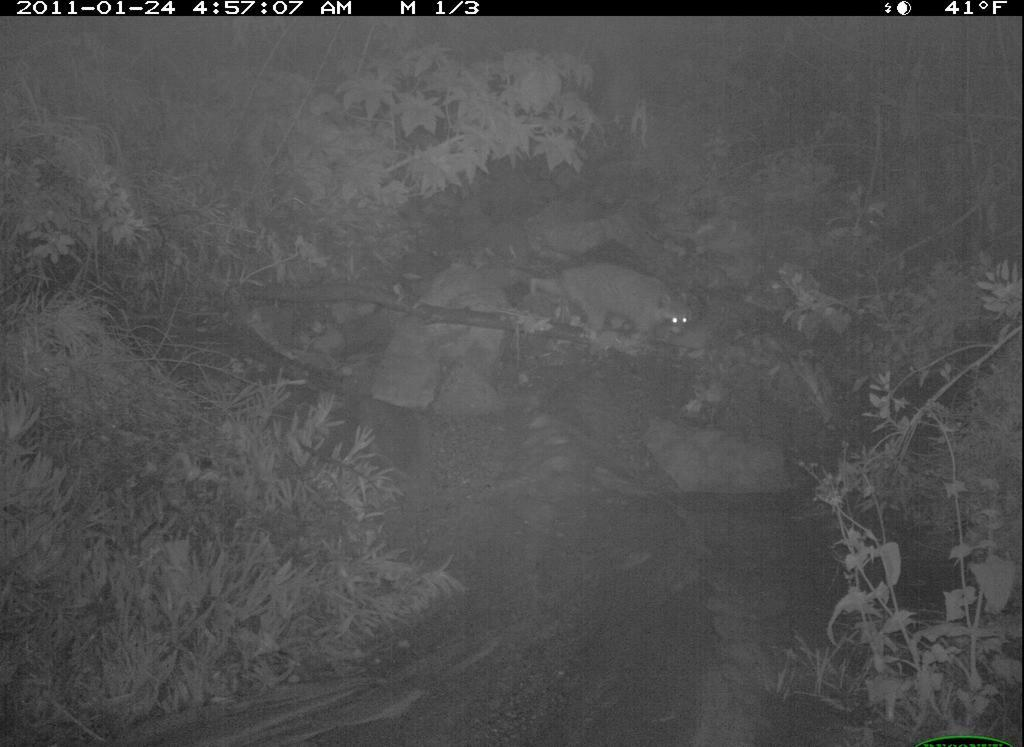raccoon: (528, 257, 697, 345)
